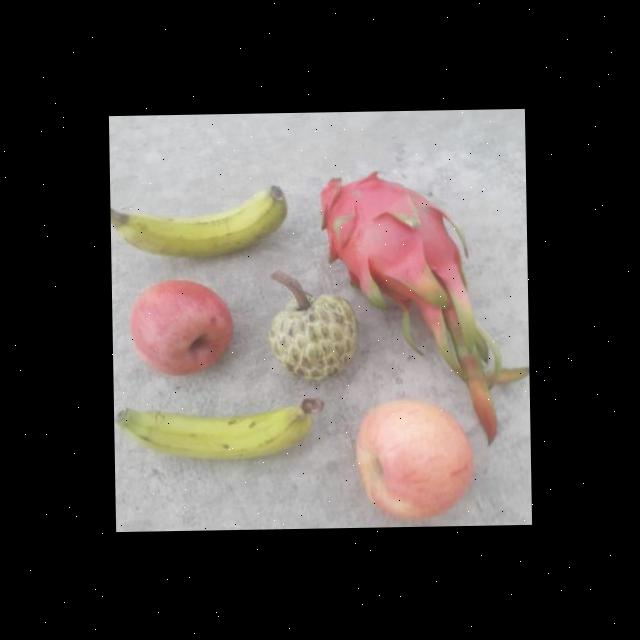Sakya fruit: (266, 290, 362, 384)
apple: (348, 396, 477, 526), (118, 276, 239, 387)
banana: (114, 392, 325, 462), (110, 179, 292, 260)
pitaya: (312, 166, 472, 321)
